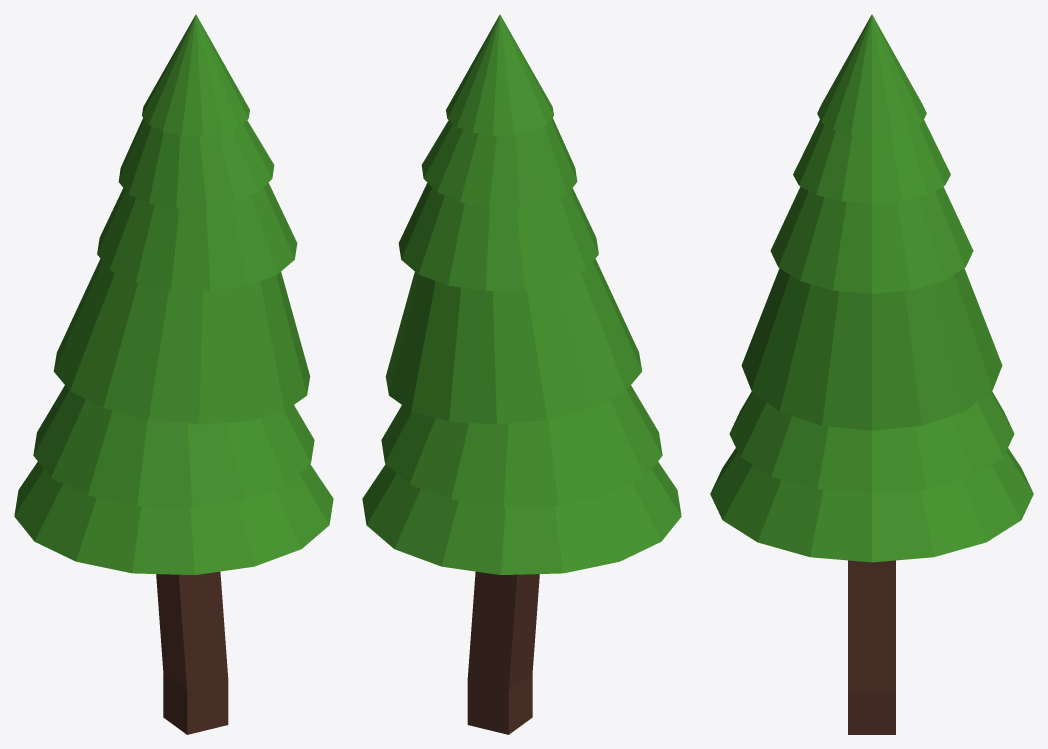
File: Pine_Tree.fbx
3 renders of one model, left to right at view 1: azimuth 30°, elevation 25°; view 2: azimuth 150°, elevation 25°; view 3: azimuth 270°, elevation 25°, orthographic.
Visible parts, largest first — view 1: Circle.002, Circle.003, Circle.004, Circle.001, Circle, Cube, Cone; view 2: Circle.002, Circle.003, Circle.004, Circle.001, Circle, Cube, Cone; view 3: Circle.002, Circle.004, Circle.003, Circle.001, Circle, Cube, Cone.
Boxes of the visible parts, bbox=[...] form: Circle.002: bbox=[53, 259, 310, 424]; Circle.003: bbox=[33, 385, 314, 507]; Circle.004: bbox=[14, 461, 333, 574]; Circle.001: bbox=[97, 183, 297, 290]; Circle: bbox=[118, 118, 274, 208]; Cube: bbox=[156, 571, 228, 734]; Cone: bbox=[142, 14, 249, 135]; Circle.002: bbox=[385, 259, 642, 424]; Circle.003: bbox=[381, 385, 662, 507]; Circle.004: bbox=[362, 461, 681, 574]; Circle.001: bbox=[398, 183, 598, 290]; Circle: bbox=[421, 118, 577, 208]; Cube: bbox=[467, 571, 539, 734]; Cone: bbox=[446, 14, 553, 135]; Circle.002: bbox=[741, 268, 1002, 430]; Circle.004: bbox=[710, 448, 1033, 562]; Circle.003: bbox=[729, 391, 1014, 493]; Circle.001: bbox=[770, 186, 973, 293]; Circle: bbox=[793, 120, 950, 203]; Cube: bbox=[848, 560, 895, 734]; Cone: bbox=[817, 14, 926, 136].
Bounding box in the file's own units: 590 × 1430 × 590.
